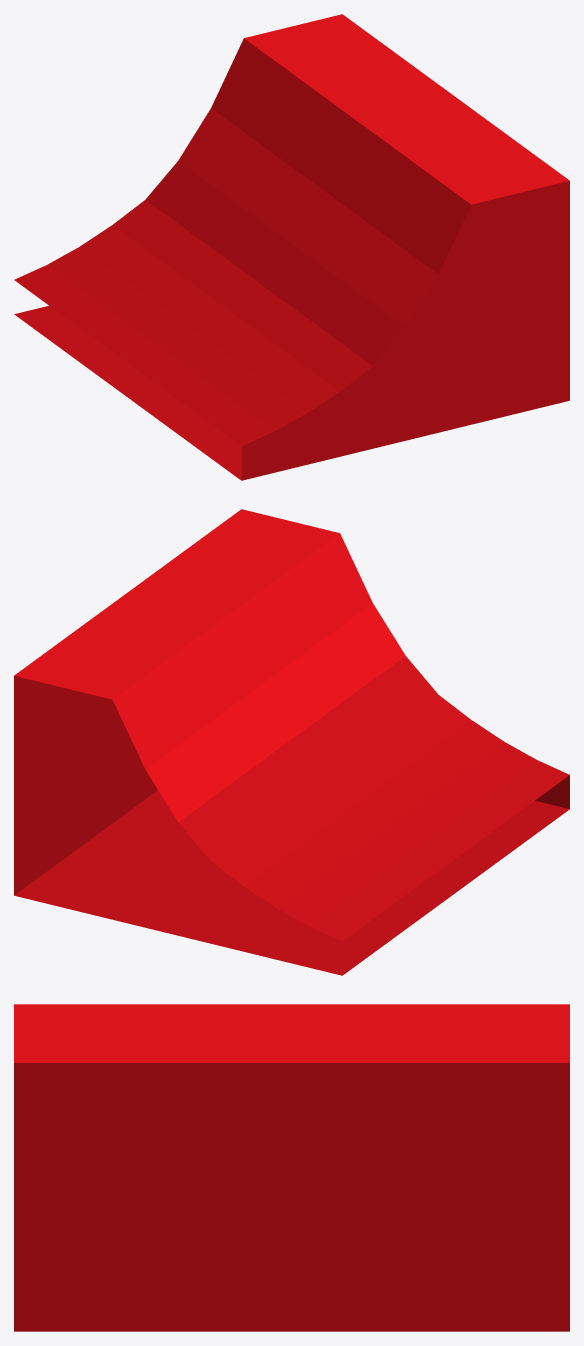
The model's file is half1.fbx.
The picture shows the model from 3 angles, top to bottom: view 1: azimuth 30°, elevation 25°; view 2: azimuth 150°, elevation 25°; view 3: azimuth 270°, elevation 25°; orthographic projection. The views are drawn at different scales.
Parts seen in each view (by area): view 1: Halfpipe.002; view 2: Halfpipe.002; view 3: Halfpipe.002.
Boxes of the visible parts, bbox=[...] form: Halfpipe.002: bbox=[14, 14, 569, 480]; Halfpipe.002: bbox=[14, 509, 569, 975]; Halfpipe.002: bbox=[14, 1004, 569, 1331].
Size of the model in its own units: 10 by 6.4 by 12.
